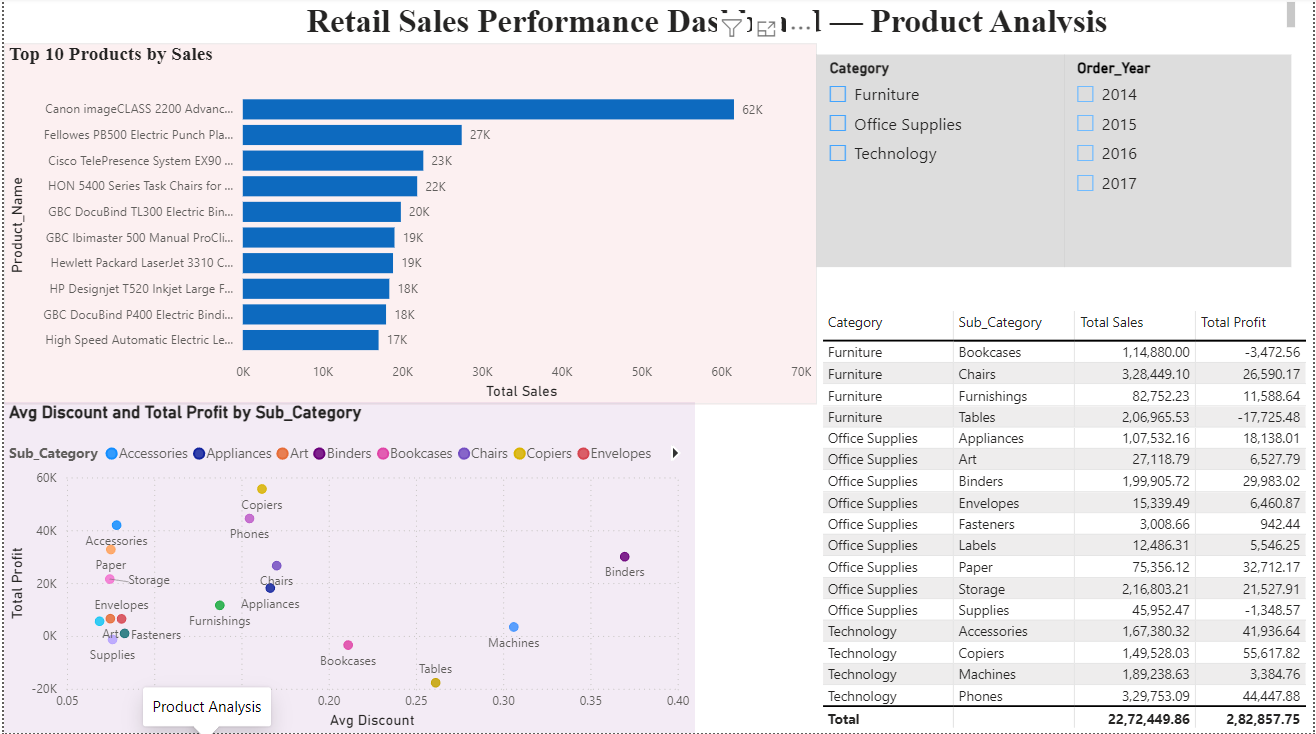

This screenshot's page, from the dashboard's own definition file:
{"tool":"powerbi","page":{"name":"Product Analysis","canvas":[1280,720],"ordinal":1},"visuals":[{"type":"textbox","box":[11,0,1257.1,40.4],"z":0},{"type":"clusteredBarChart","title":"Top 10 Products by Sales","fields":{"Category":["cleaned_superstore.Product_Name"],"Y":["cleaned_superstore.Total Sales"]},"box":[0,45.2,794.8,353.4],"z":1000},{"type":"tableEx","fields":{"Values":["cleaned_superstore.Category","cleaned_superstore.Sub_Category","cleaned_superstore.Total Sales","cleaned_superstore.Total Profit"]},"box":[794.8,302,485.5,418.2],"z":2000},{"type":"scatterChart","fields":{"X":["cleaned_superstore.Avg Discount"],"Y":["cleaned_superstore.Total Profit"],"Series":["cleaned_superstore.Sub_Category"]},"box":[0,396.2,676.2,324.1],"z":3000},{"type":"slicer","fields":{"Values":["cleaned_superstore.Category"]},"box":[794.8,56.3,242.1,207.9],"z":4000},{"type":"slicer","fields":{"Values":["cleaned_superstore.Order_Year"]},"box":[1037,56.3,222.6,207.9],"z":5000}]}

Visuals, with their boxes in screenshot pixels (x1, y1, x2, y2), scaled from the page's 1280x720 canvas onto the 1316x734 screenshot:
textbox: <bbox>11, 0, 1304, 41</bbox>
"Top 10 Products by Sales" clusteredBarChart: <bbox>0, 46, 817, 406</bbox>
tableEx - cleaned_superstore.Category x cleaned_superstore.Sub_Category: <bbox>817, 308, 1315, 733</bbox>
scatterChart - cleaned_superstore.Avg Discount x cleaned_superstore.Total Profit: <bbox>0, 404, 695, 733</bbox>
slicer - cleaned_superstore.Category: <bbox>817, 57, 1066, 269</bbox>
slicer - cleaned_superstore.Order_Year: <bbox>1066, 57, 1295, 269</bbox>
